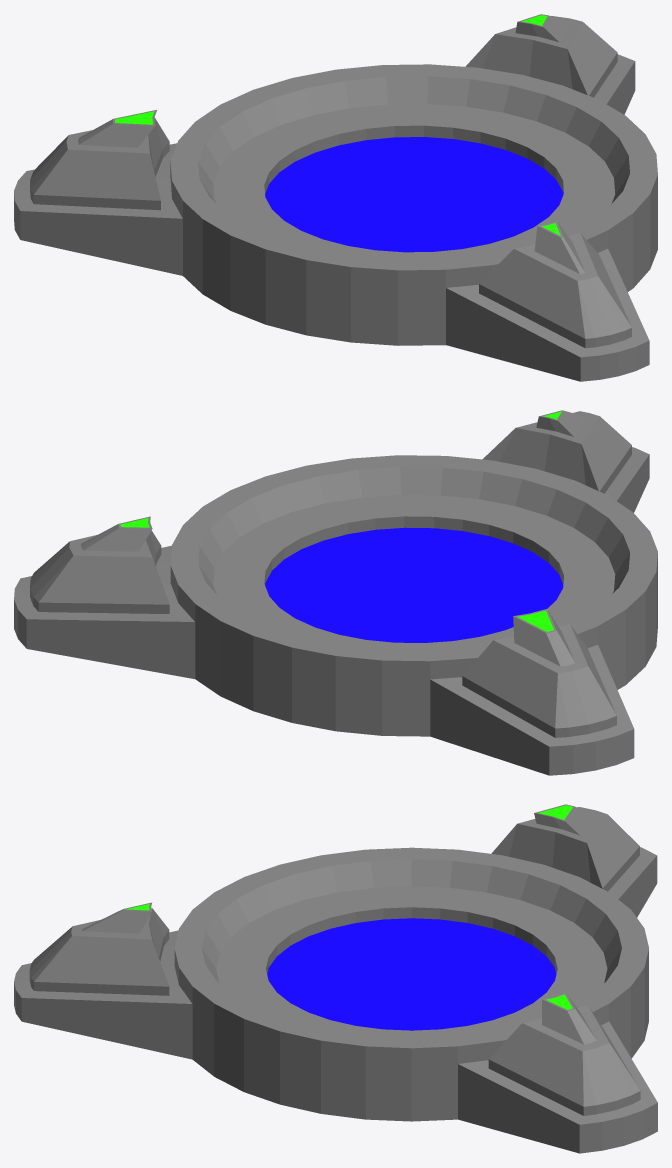
Rendered from TeleporterWithLight.glb.
The picture shows the model from 3 angles, top to bottom: view 1: azimuth 30°, elevation 25°; view 2: azimuth 150°, elevation 25°; view 3: azimuth 270°, elevation 25°; orthographic projection. The views are drawn at different scales.
Visible parts, largest first — view 1: Cylinder; view 2: Cylinder; view 3: Cylinder.
Part boxes in pixels (<box>): Cylinder: <box>14,14,657,381</box>; Cylinder: <box>14,410,657,775</box>; Cylinder: <box>14,804,657,1153</box>.
Size of the model in its own units: 1.95 by 0.3596 by 1.82.
